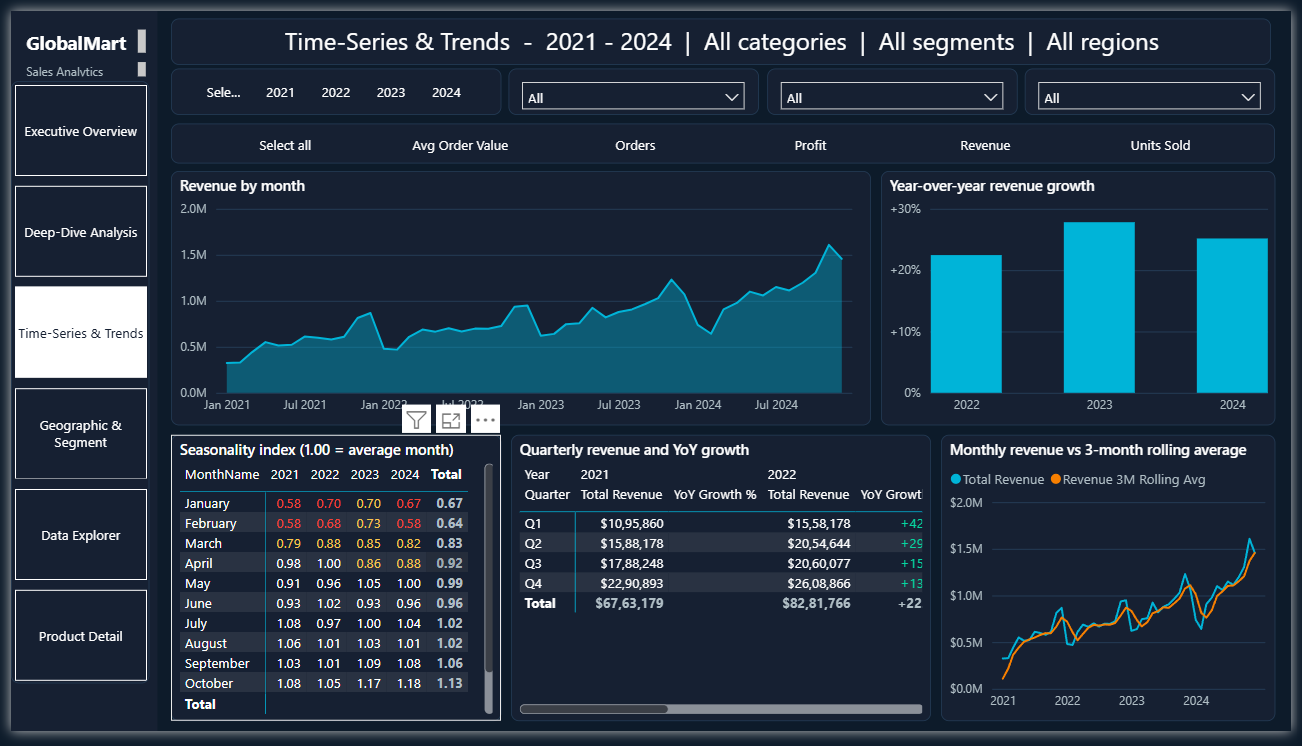

This screenshot's page, from the dashboard's own definition file:
{"tool":"powerbi","page":{"name":"Time-Series & Trends","canvas":[1280,720],"ordinal":2},"visuals":[{"type":"textbox","box":[0,0,146,720],"z":100},{"type":"textbox","box":[10,14,130,34],"z":200},{"type":"textbox","box":[10,46,130,24],"z":300},{"type":"card","fields":{"Values":["_Measures.Trends Title"]},"box":[160,8,1100,46],"z":500},{"type":"slicer","fields":{"Values":["DimDate.Year"]},"box":[160,58,330,46],"z":600},{"type":"slicer","fields":{"Values":["DimProduct.Category"]},"box":[498,58,250,46],"z":700},{"type":"slicer","fields":{"Values":["DimCustomer.Segment"]},"box":[756,58,250,46],"z":800},{"type":"slicer","fields":{"Values":["DimRegion.Region"]},"box":[1014,58,250,46],"z":900},{"type":"slicer","fields":{"Values":["MetricChoice.Metric"]},"box":[160,112,1104,40],"z":1000},{"type":"areaChart","fields":{"Category":["DimDate.MonthStart"],"Y":["_Measures.Selected Metric"]},"box":[160,160,700,254],"z":1100},{"type":"clusteredColumnChart","title":"Year-over-year revenue growth","fields":{"Category":["DimDate.Year"],"Y":["_Measures.YoY Growth %"]},"box":[870,160,394,254],"z":1200},{"type":"pivotTable","title":"Seasonality index (1.00 = average month)","fields":{"Columns":["DimDate.Year"],"Rows":["DimDate.MonthName"],"Values":["_Measures.Seasonality Index"]},"box":[160,424,330,286],"z":1300},{"type":"pivotTable","title":"Quarterly revenue and YoY growth","fields":{"Columns":["DimDate.Year"],"Rows":["DimDate.Quarter"],"Values":["_Measures.Total Revenue","_Measures.YoY Growth %"]},"box":[500,424,420,286],"z":1400},{"type":"lineChart","title":"Monthly revenue vs 3-month rolling average","fields":{"Category":["DimDate.MonthStart"],"Y":["_Measures.Total Revenue","_Measures.Revenue 3M Rolling Avg"]},"box":[930,424,334,286],"z":1500},{"type":"pageNavigator","box":[0,70.2,138.1,602.4],"z":1501}]}

Visuals, with their boxes on the page's 1280x720 design canvas (x1, y1, x2, y2). These are canvas units, not pixel positions in the 1302x746 screenshot, which may show the page scaled, cropped or inside an application window:
textbox: [0, 0, 146, 720]
textbox: [10, 14, 140, 48]
textbox: [10, 46, 140, 70]
card - _Measures.Trends Title: [160, 8, 1260, 54]
slicer - DimDate.Year: [160, 58, 490, 104]
slicer - DimProduct.Category: [498, 58, 748, 104]
slicer - DimCustomer.Segment: [756, 58, 1006, 104]
slicer - DimRegion.Region: [1014, 58, 1264, 104]
slicer - MetricChoice.Metric: [160, 112, 1264, 152]
areaChart - DimDate.MonthStart x _Measures.Selected Metric: [160, 160, 860, 414]
"Year-over-year revenue growth" clusteredColumnChart: [870, 160, 1264, 414]
"Seasonality index (1.00 = average month)" pivotTable: [160, 424, 490, 710]
"Quarterly revenue and YoY growth" pivotTable: [500, 424, 920, 710]
"Monthly revenue vs 3-month rolling average" lineChart: [930, 424, 1264, 710]
pageNavigator: [0, 70, 138, 673]
